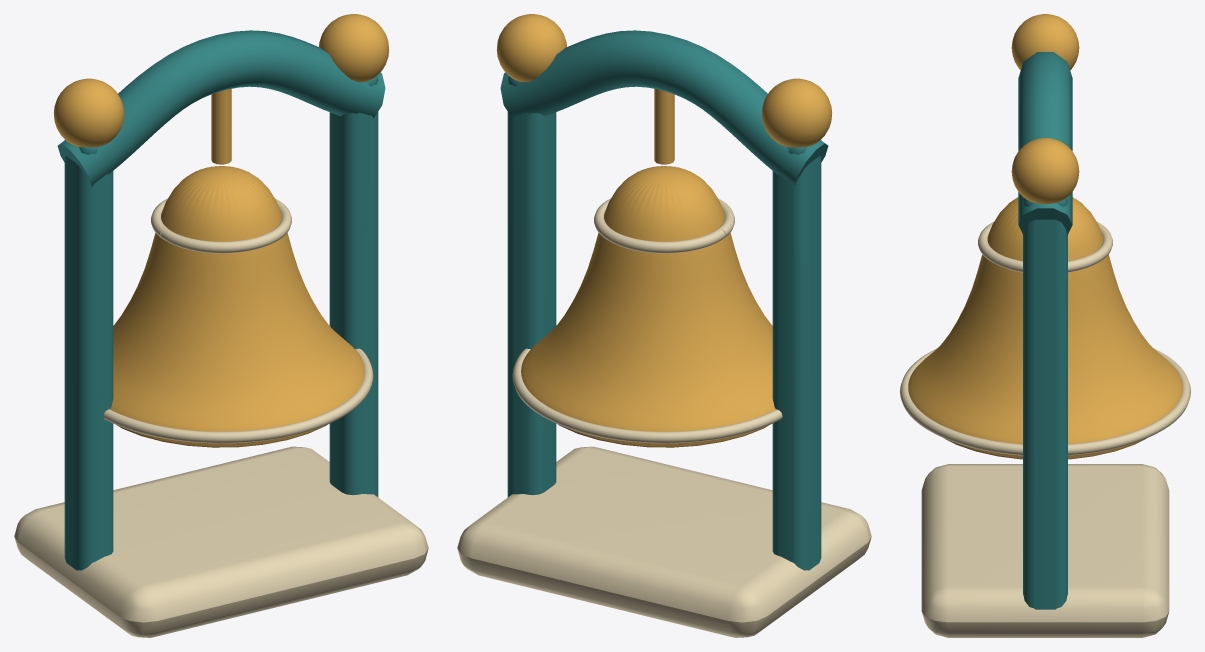
File: RiverBell.glb
The picture shows the model from 3 angles, left to right: view 1: azimuth 30°, elevation 25°; view 2: azimuth 150°, elevation 25°; view 3: azimuth 270°, elevation 25°; orthographic projection. The views are drawn at different scales.
Parts seen in each view (by area): view 1: Bell plinth, Singing brass bell, Carved bell post.001, Bell sweeping yoke, Carved bell post, Post brass finial.001, Bell decorative rim, Post brass finial, Bell decorative rim.001, Bell suspension, Bell dark opening; view 2: Bell plinth, Singing brass bell, Carved bell post.001, Bell sweeping yoke, Carved bell post, Post brass finial.001, Bell decorative rim, Post brass finial, Bell decorative rim.001, Bell suspension, Bell dark opening; view 3: Bell plinth, Singing brass bell, Carved bell post, Bell sweeping yoke, Bell decorative rim, Post brass finial, Post brass finial.001, Bell decorative rim.001, Bell dark opening.
Part boxes in pixels (x1,y1,x2,y2): Bell plinth: [14, 446, 428, 637]; Singing brass bell: [110, 166, 364, 443]; Carved bell post.001: [64, 147, 113, 570]; Bell sweeping yoke: [57, 30, 385, 186]; Carved bell post: [329, 76, 378, 497]; Post brass finial.001: [54, 78, 124, 147]; Bell decorative rim: [103, 348, 373, 443]; Post brass finial: [319, 14, 389, 82]; Bell decorative rim.001: [151, 198, 291, 253]; Bell suspension: [211, 89, 231, 164]; Bell dark opening: [117, 424, 327, 447]; Bell plinth: [457, 446, 871, 637]; Singing brass bell: [521, 166, 775, 443]; Carved bell post.001: [772, 147, 821, 570]; Bell sweeping yoke: [500, 30, 828, 186]; Carved bell post: [507, 76, 556, 497]; Post brass finial.001: [761, 78, 831, 147]; Bell decorative rim: [512, 348, 782, 443]; Post brass finial: [496, 14, 566, 82]; Bell decorative rim.001: [594, 198, 734, 253]; Bell suspension: [654, 89, 674, 164]; Bell dark opening: [558, 424, 768, 447]; Bell plinth: [921, 464, 1169, 637]; Singing brass bell: [908, 197, 1182, 455]; Carved bell post: [1023, 198, 1067, 609]; Bell sweeping yoke: [1018, 52, 1072, 235]; Bell decorative rim: [900, 348, 1190, 455]; Post brass finial: [1011, 138, 1079, 204]; Post brass finial.001: [1011, 14, 1079, 70]; Bell decorative rim.001: [978, 222, 1112, 272]; Bell dark opening: [944, 438, 1146, 459].
Bounding box in the file's own units: 1.6 × 2.48 × 1.29.
